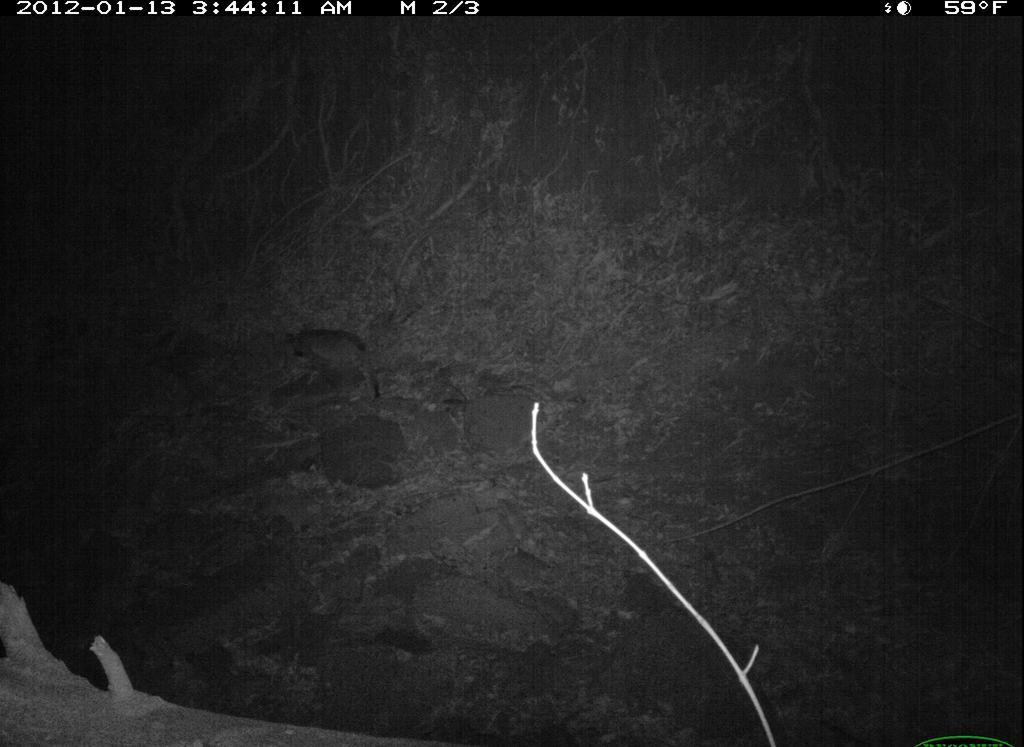bobcat: (286, 318, 392, 401)
